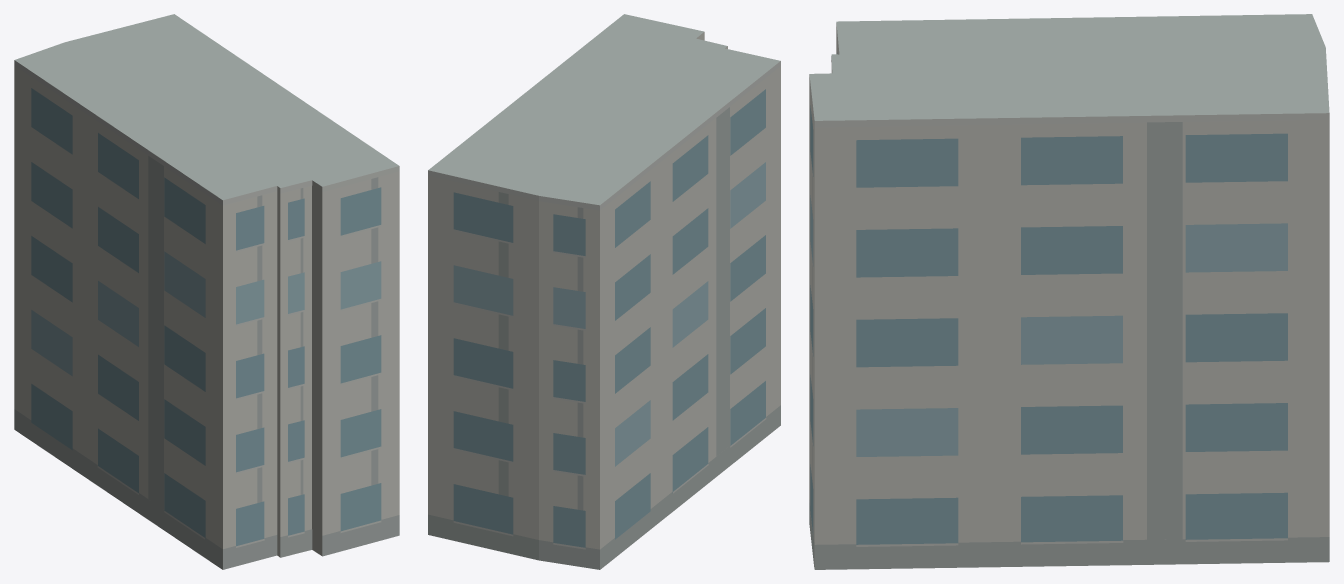
File: survey-upis-32524903.glb
3 renders of one model, left to right at view 1: azimuth 30°, elevation 25°; view 2: azimuth 150°, elevation 25°; view 3: azimuth 270°, elevation 25°, orthographic. The views are drawn at different scales.
Visible parts, largest first — view 1: survey-upis-32524903.tmp; view 2: survey-upis-32524903.tmp; view 3: survey-upis-32524903.tmp.
Part boxes in pixels (bbox=[...]): survey-upis-32524903.tmp: bbox=[14, 14, 399, 569]; survey-upis-32524903.tmp: bbox=[428, 14, 780, 569]; survey-upis-32524903.tmp: bbox=[809, 14, 1329, 569].
Size of the model in its own units: 8.52 by 16.66 by 17.5.
